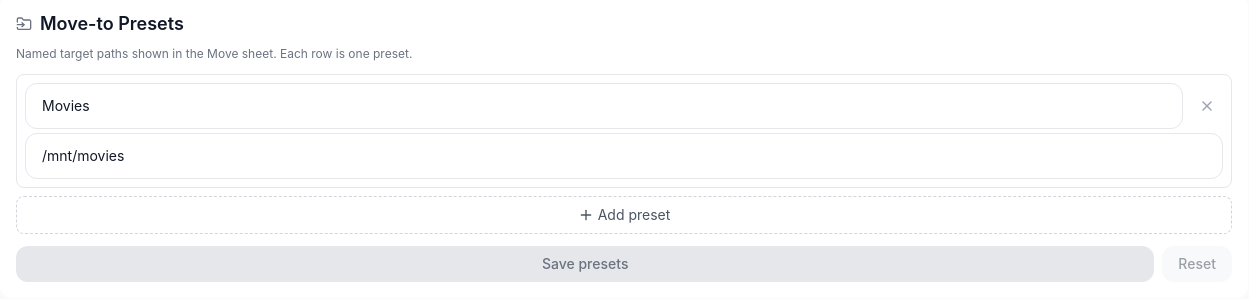
LocationPresetsCard › Save is disabled when the draft matches server data, enabled when dirty
expect the button "Save presets" is disabled: met, box [16,246,1154,282]
Type "X" into the field named "Preset name" at point(604, 106), box [25,83,1183,129]
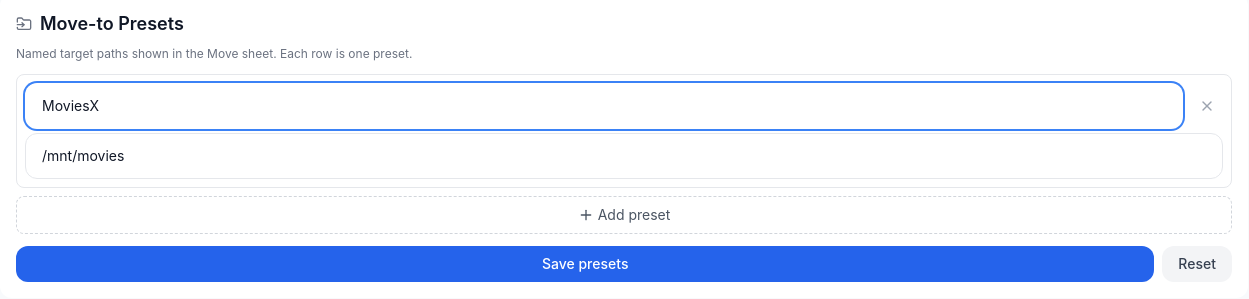
expect the button "Save presets" is enabled: met, box [16,246,1154,282]
